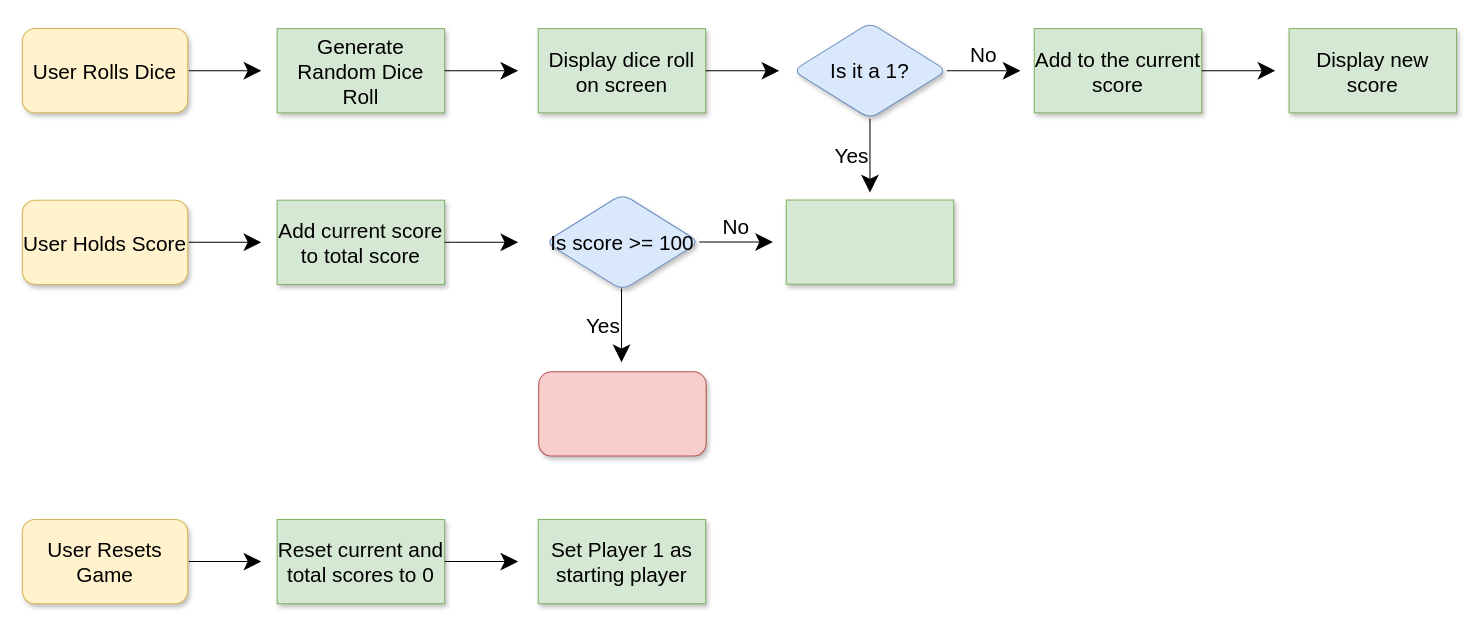
Image size: 1481x629. Some labels were removed from this diagram. Here are the shapes that lost their labels. From the top down, the centre of each, then its label:
At pixel 870 243: "Switch Player".
At pixel 623 415: "Current Player Wins!".
